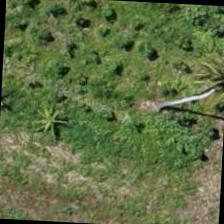Kelapa_Sawit: (112, 57, 207, 152)
